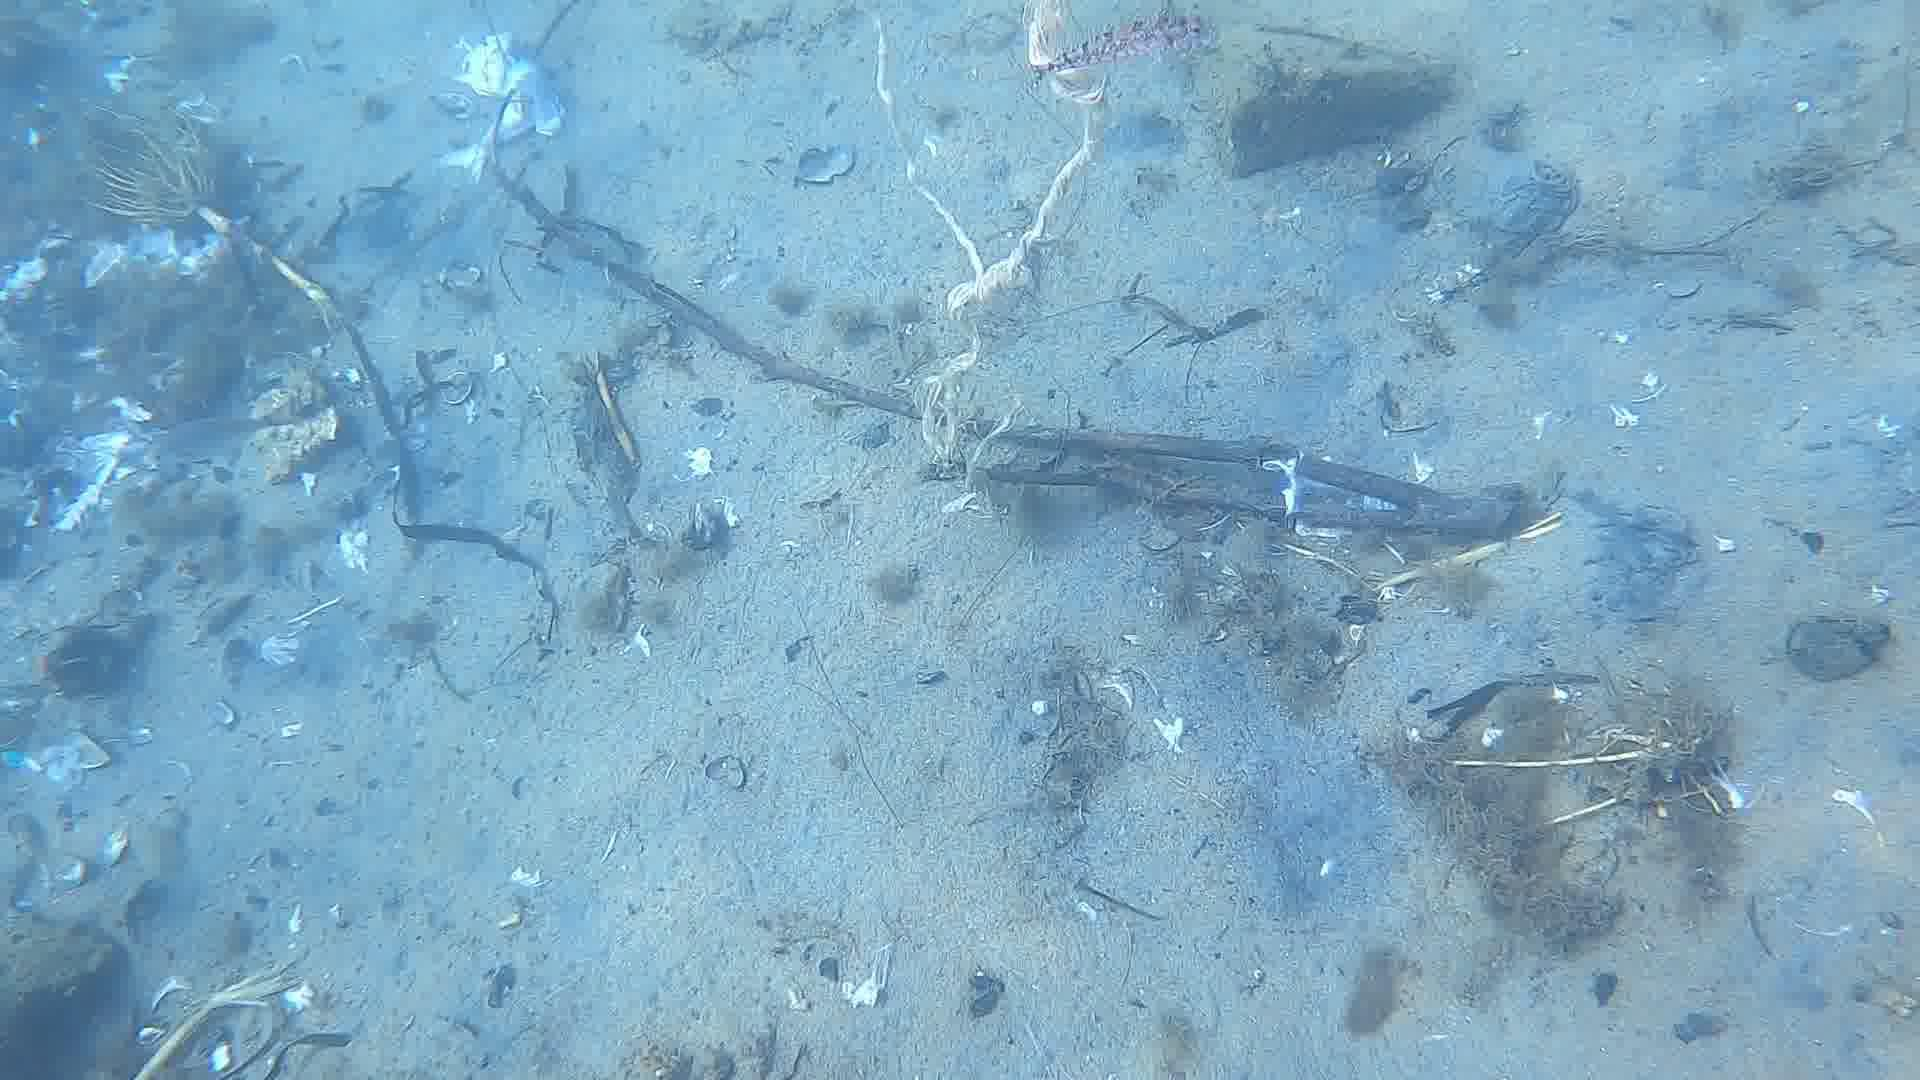wood: (512, 182, 1528, 534)
